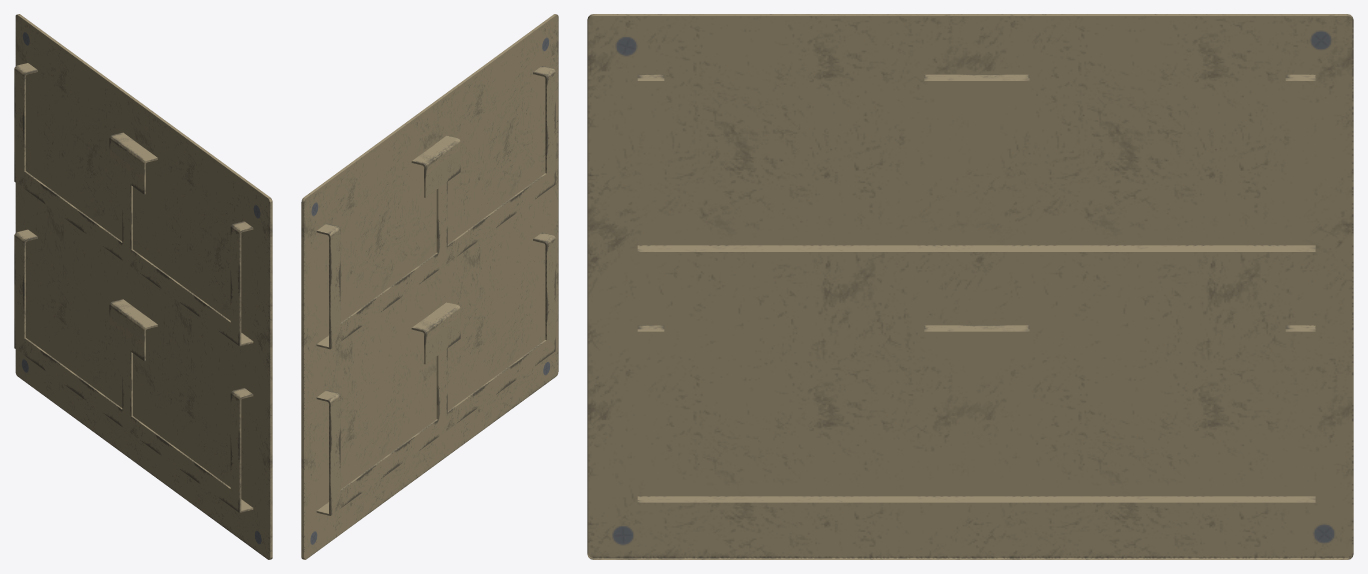
File: Knife stand.fbx
3 views of the same model, side by side, from view 1: azimuth 30°, elevation 25°; view 2: azimuth 150°, elevation 25°; view 3: azimuth 270°, elevation 25° (orthographic). The views are drawn at different scales.
Visible parts, largest first — view 1: Knide_Stand; view 2: Knide_Stand; view 3: Knide_Stand.
Part boxes in pixels (box(x1,y1,x2,y2)): Knide_Stand: box(14, 14, 272, 559); Knide_Stand: box(301, 14, 558, 559); Knide_Stand: box(587, 14, 1353, 559).
Bounding box in the file's own units: 3.82 × 69.06 × 88.13.
1 material, 1 textured.
